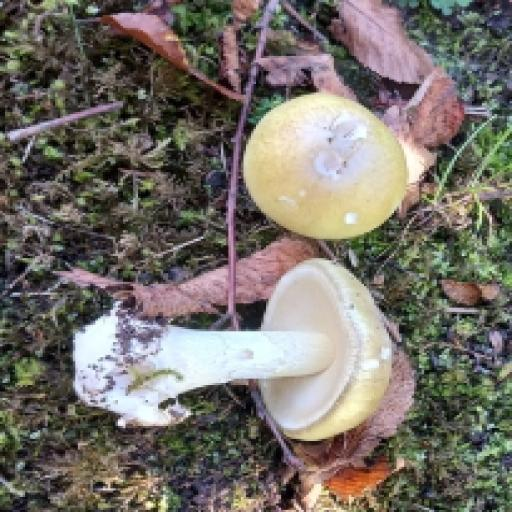mushroom: (74, 243, 413, 496), (238, 95, 406, 246)
